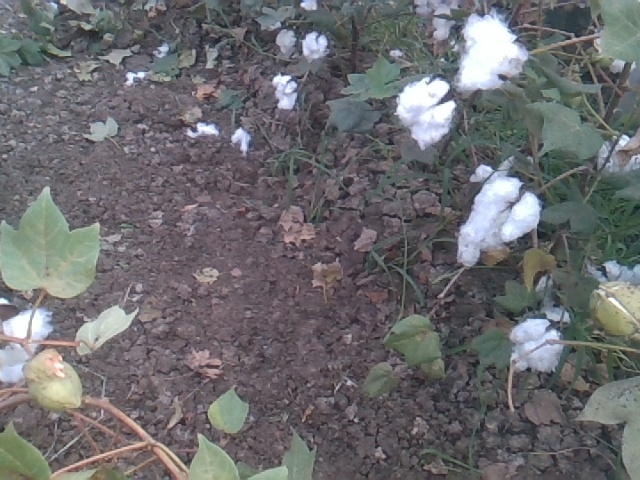cotton: (456, 157, 541, 266), (455, 10, 528, 94), (1, 296, 54, 387), (392, 76, 458, 149), (504, 317, 564, 375), (415, 1, 477, 40), (596, 27, 640, 74), (597, 133, 640, 175), (268, 74, 299, 109), (301, 28, 330, 63), (275, 28, 298, 60), (300, 1, 319, 12)
